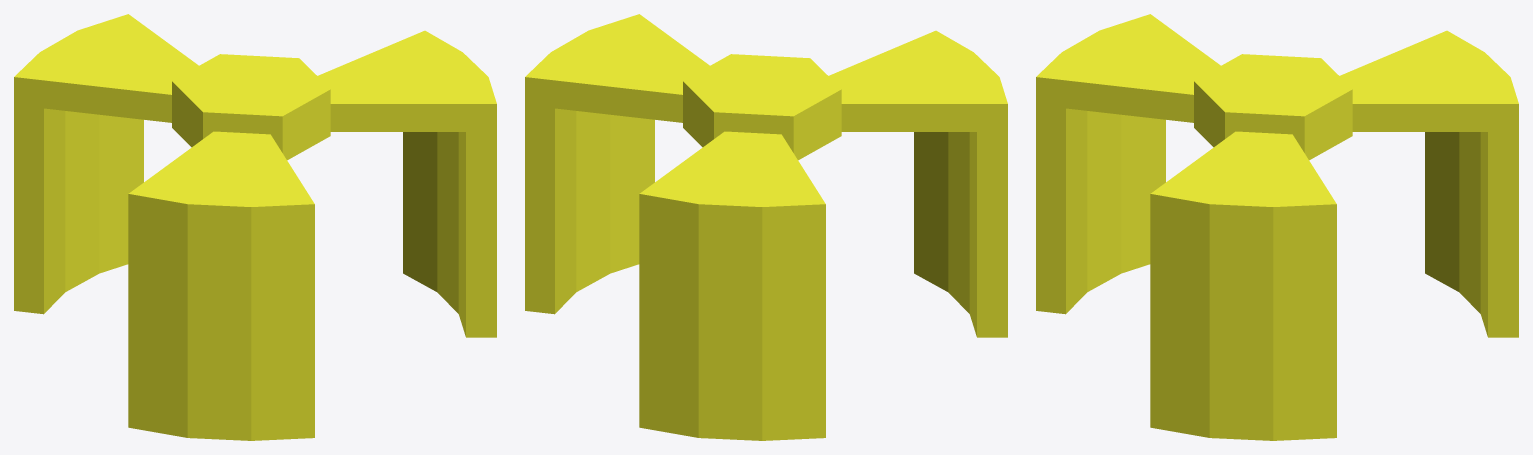
File: NPC_rotation_body.fbx
3 renders of one model, left to right at view 1: azimuth 30°, elevation 25°; view 2: azimuth 150°, elevation 25°; view 3: azimuth 270°, elevation 25°, orthographic.
Parts seen in each view (by area): view 1: Group4, Group2, Group3, Group1; view 2: Group2, Group3, Group4, Group1; view 3: Group3, Group4, Group2, Group1.
Boxes of the visible parts, bbox=[...] form: Group4: bbox=[128, 131, 314, 440]; Group2: bbox=[14, 14, 198, 314]; Group3: bbox=[318, 30, 496, 337]; Group1: bbox=[172, 54, 330, 160]; Group2: bbox=[639, 131, 825, 440]; Group3: bbox=[525, 14, 709, 314]; Group4: bbox=[829, 30, 1007, 337]; Group1: bbox=[683, 54, 841, 160]; Group3: bbox=[1150, 131, 1336, 440]; Group4: bbox=[1036, 14, 1220, 314]; Group2: bbox=[1340, 30, 1518, 337]; Group1: bbox=[1194, 54, 1352, 160].
Bounding box in the file's own units: 222 × 135 × 234.
